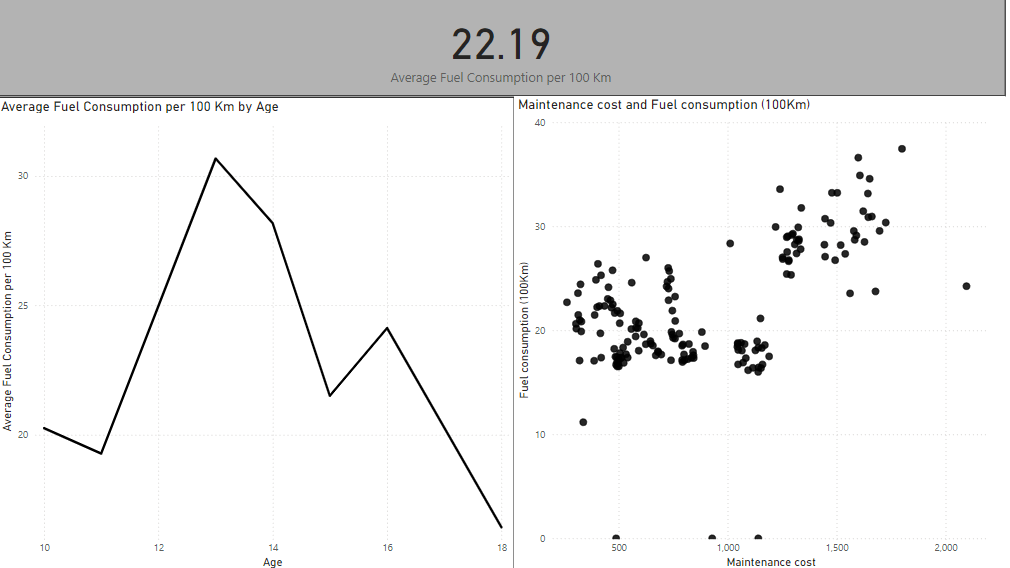

The dashboard page shown, as its layout file describes it:
{"tool":"powerbi","page":{"name":"Fleet Performance","canvas":[1280,720],"ordinal":2},"visuals":[{"type":"card","fields":{"Values":["Costs.Average Fuel Consumption per 100 Km"]},"box":[10,0,1262.2,124.4],"z":0},{"type":"lineChart","fields":{"Category":["Vehicles.Age"],"Y":["Costs.Average Fuel Consumption per 100 Km"]},"box":[10,124.4,647.8,595.6],"z":1000},{"type":"scatterChart","fields":{"Y":["Costs.Fuel consumption (100Km)"],"X":["Costs.Maintenance cost"]},"box":[658,124,614,596],"z":1001}]}

Visuals, with their boxes in screenshot pixels (x1, y1, x2, y2), scaled from the page's 1280x720 canvas onto the 1010x568 screenshot:
card - Costs.Average Fuel Consumption per 100 Km: (x1=8, y1=0, x2=1004, y2=98)
lineChart - Vehicles.Age x Costs.Average Fuel Consumption per 100 Km: (x1=8, y1=98, x2=519, y2=567)
scatterChart - Costs.Fuel consumption (100Km) x Costs.Maintenance cost: (x1=519, y1=98, x2=1004, y2=567)
